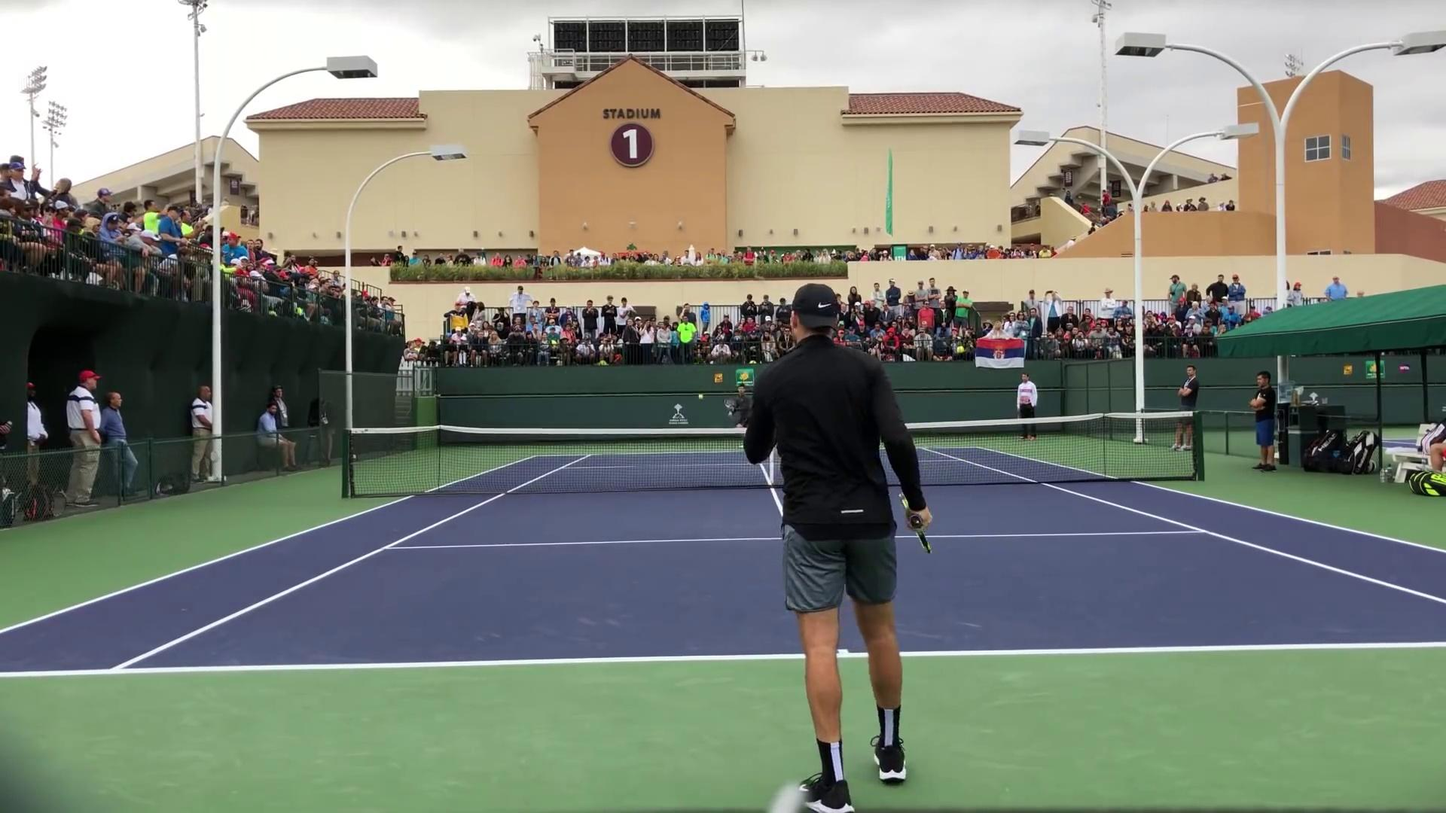ball: (696, 393, 704, 400)
